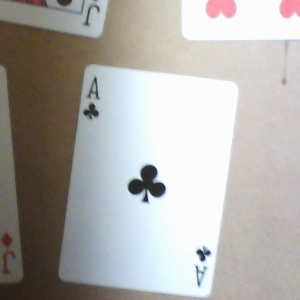card: (59, 59, 240, 299)
